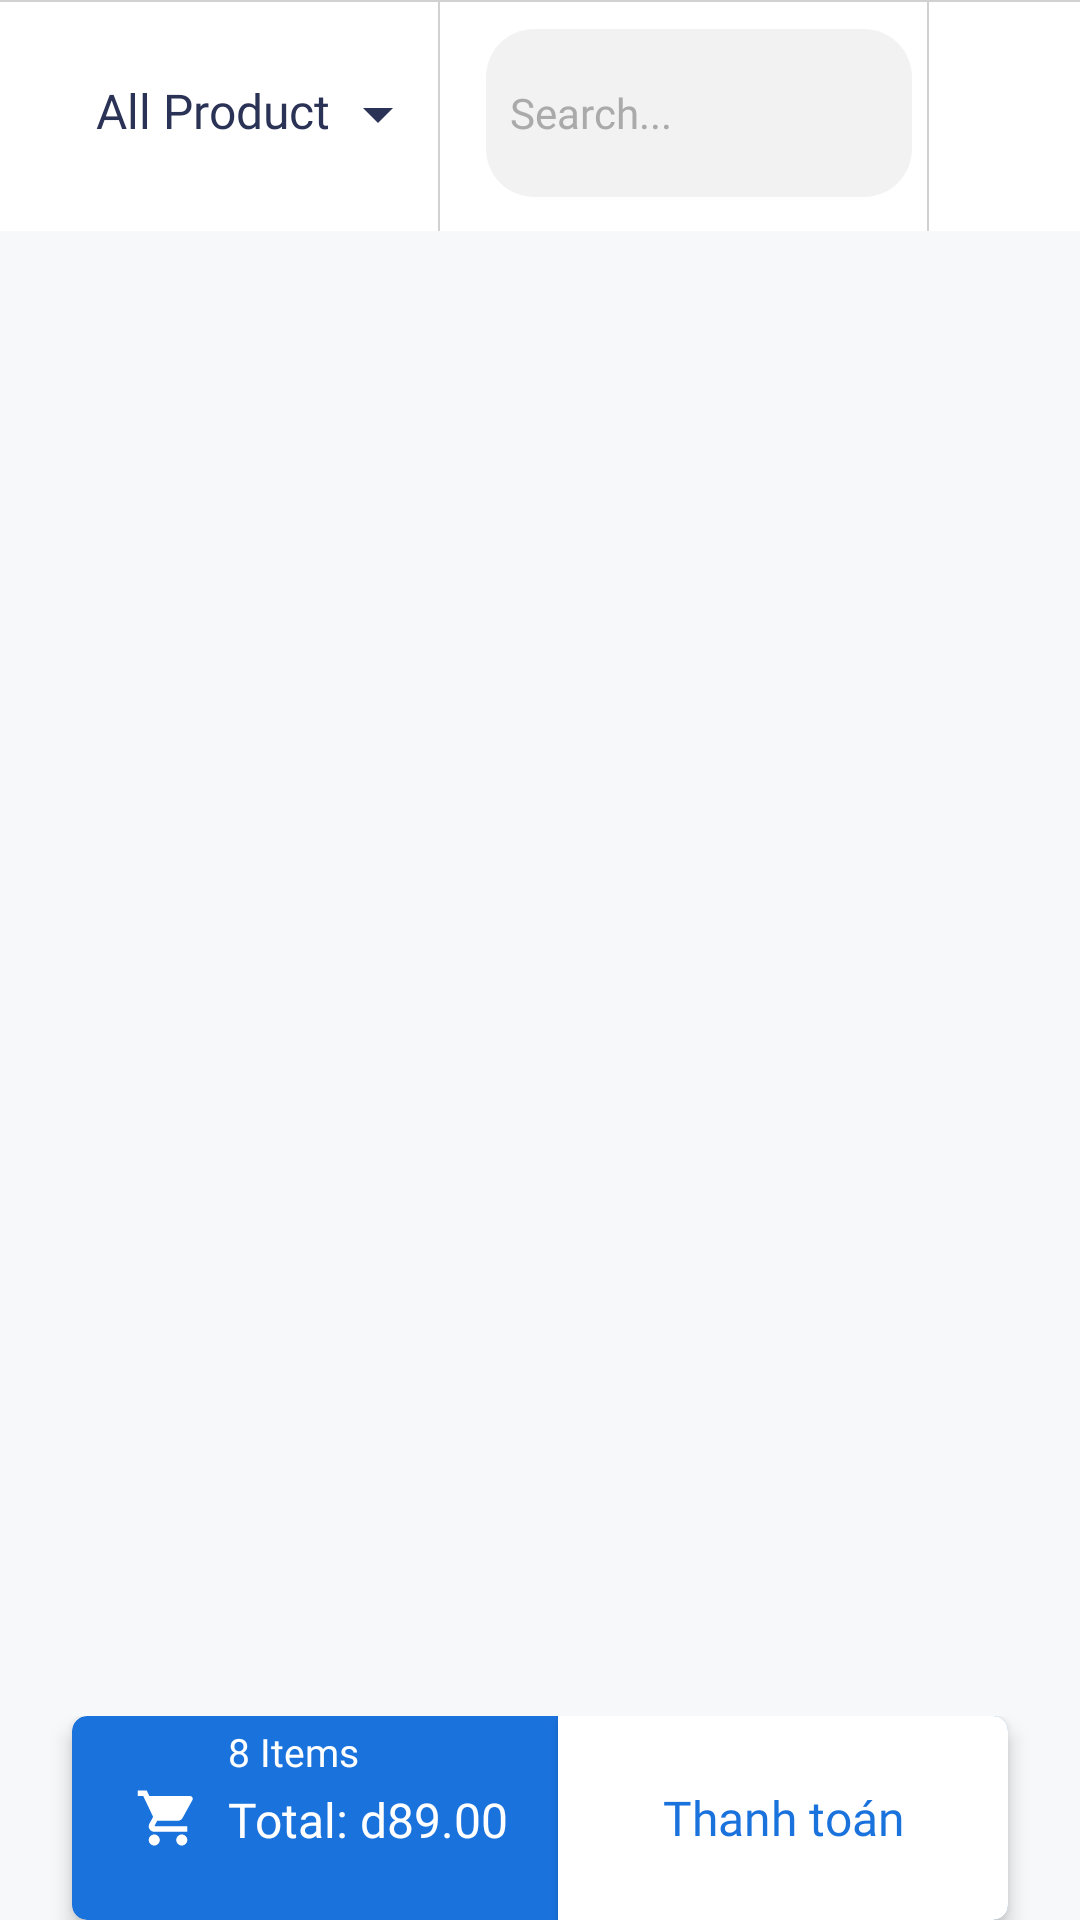

Named icons in this screenshot (1080px x 1920px) and their centers, (x,y):
shopping cart: (165,1818)
